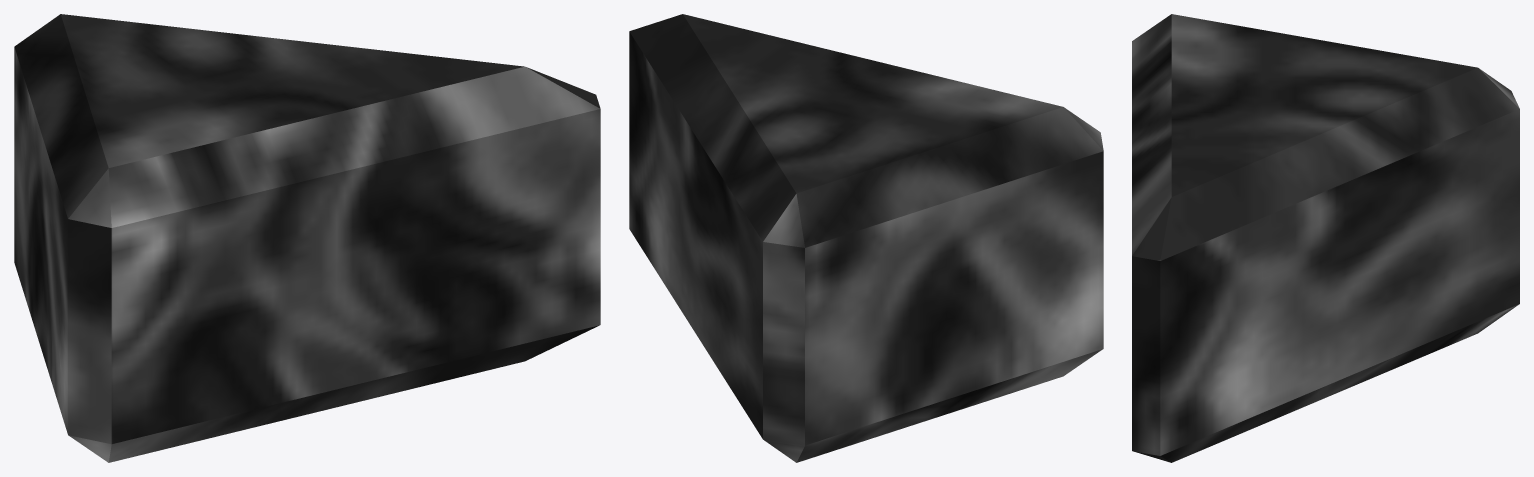
File: AssemblyBlockPartsE_bake.dae
The picture shows the model from 3 angles, left to right: view 1: azimuth 30°, elevation 25°; view 2: azimuth 150°, elevation 25°; view 3: azimuth 270°, elevation 25°; orthographic projection. The views are drawn at different scales.
Parts seen in each view (by area): view 1: m3; view 2: m3; view 3: m3.
Boxes of the visible parts, x1=… form: m3: x1=14, y1=14, x2=600, y2=462; m3: x1=629, y1=14, x2=1103, y2=462; m3: x1=1132, y1=14, x2=1519, y2=462.
Size of the model in its own units: 279 by 150 by 198.
Materials: 5 (5 with a texture image).
